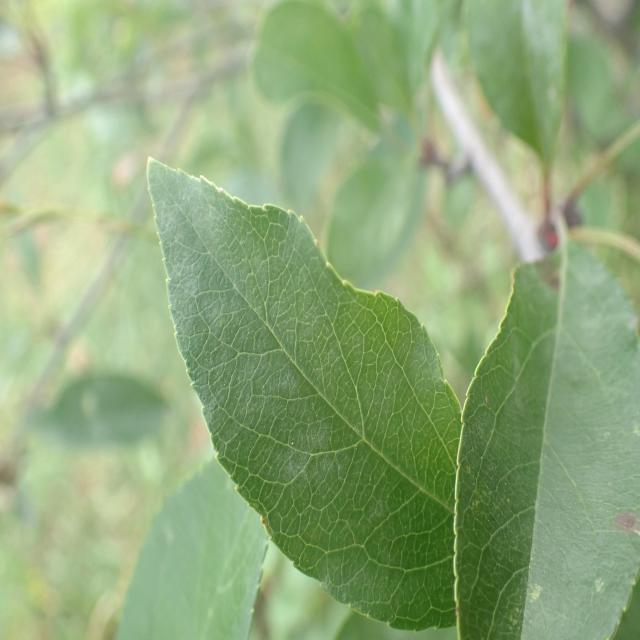Powdery_mildew: (153, 158, 457, 616), (469, 158, 640, 608)
